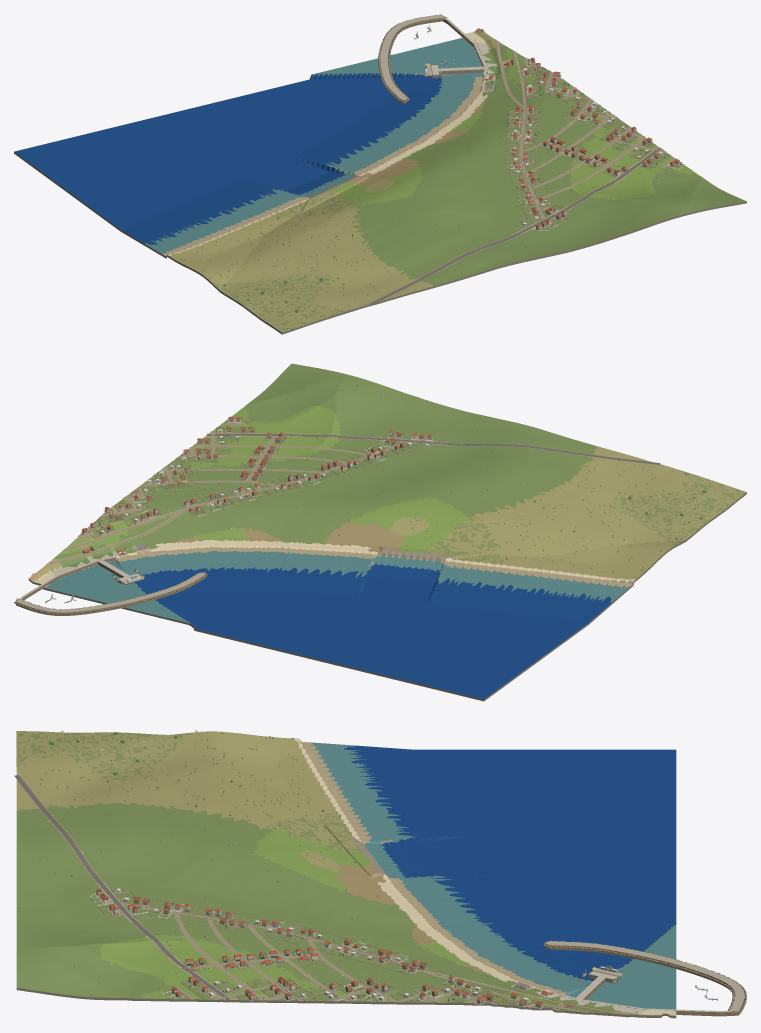
File: parca_-1_-1-yakin.glb
3 renders of one model, top to bottom at view 1: azimuth 30°, elevation 25°; view 2: azimuth 150°, elevation 25°; view 3: azimuth 270°, elevation 25°, orthographic. The views are drawn at different scales.
Parts seen in each view (by area): view 1: parca_-1_-1_arazi, parca_-1_-1_yapilar, parca_-1_-1_yollar, parca_-1_-1_duvarlar, parca_-1_-1_bitkiler, bina_liman_mendirek, bina_liman_mendirek_tahkimat; view 2: parca_-1_-1_arazi, parca_-1_-1_yapilar, parca_-1_-1_yollar, parca_-1_-1_duvarlar, bina_liman_mendirek, parca_-1_-1_bitkiler, bina_liman_mendirek_tahkimat; view 3: parca_-1_-1_arazi, parca_-1_-1_yapilar, parca_-1_-1_yollar, parca_-1_-1_duvarlar, bina_liman_mendirek, parca_-1_-1_bitkiler, bina_liman_mendirek_tahkimat, rihtim_0.
Boxes of the visible parts, box(x1,y1,x2,y2) form: parca_-1_-1_arazi: box(14, 28, 746, 334); parca_-1_-1_yapilar: box(483, 57, 680, 230); parca_-1_-1_yollar: box(369, 41, 675, 304); parca_-1_-1_duvarlar: box(505, 58, 684, 230); parca_-1_-1_bitkiler: box(172, 42, 715, 329); bina_liman_mendirek: box(380, 15, 444, 103); bina_liman_mendirek_tahkimat: box(378, 14, 447, 102); parca_-1_-1_arazi: box(28, 363, 746, 701); parca_-1_-1_yapilar: box(81, 416, 432, 555); parca_-1_-1_yollar: box(47, 423, 660, 563); parca_-1_-1_duvarlar: box(78, 416, 433, 538); bina_liman_mendirek: box(16, 572, 205, 615); parca_-1_-1_bitkiler: box(51, 384, 738, 577); bina_liman_mendirek_tahkimat: box(14, 572, 207, 614); parca_-1_-1_arazi: box(16, 731, 676, 1018); parca_-1_-1_yapilar: box(96, 888, 573, 1008); parca_-1_-1_yollar: box(14, 775, 629, 1015); parca_-1_-1_duvarlar: box(90, 890, 553, 1008); bina_liman_mendirek: box(546, 941, 744, 1014); parca_-1_-1_bitkiler: box(17, 730, 637, 1012); bina_liman_mendirek_tahkimat: box(543, 940, 746, 1014); rihtim_0: box(559, 994, 738, 1016).
Size of the model in its own units: 1007 by 78.25 by 1111.
